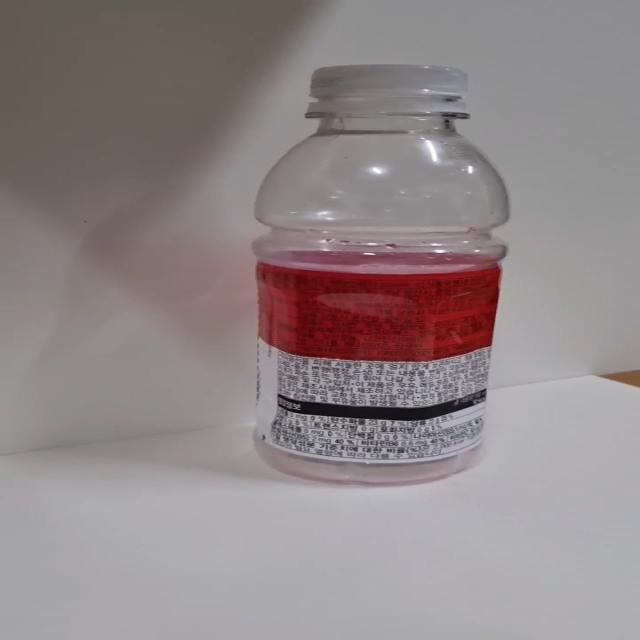Plastic: (249, 65, 512, 488)
